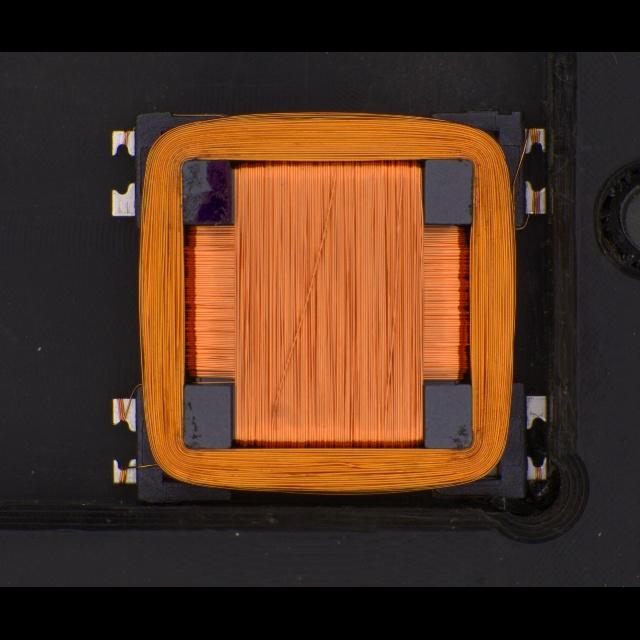Winding_Z: (129, 109, 521, 499)
